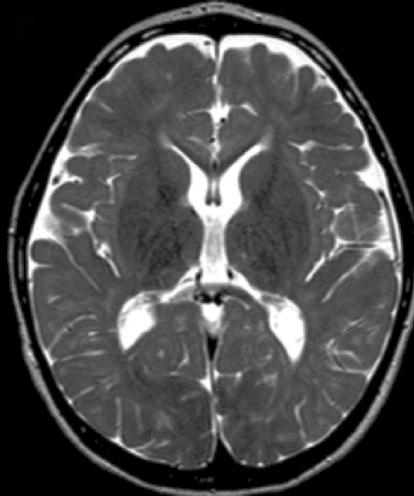Normal_Brain: (2, 1, 414, 496)
